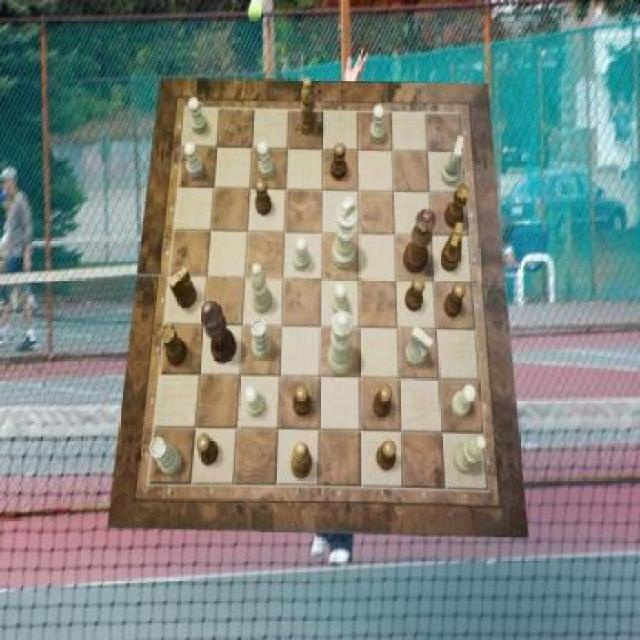bishop: (299, 77, 316, 135), (291, 442, 313, 479)
black-bishop: (202, 300, 238, 364)
black-king: (168, 266, 197, 309), (440, 223, 463, 272)
black-knight: (445, 282, 467, 318), (197, 434, 219, 466), (330, 143, 348, 181), (374, 384, 394, 418), (406, 277, 426, 311), (292, 385, 312, 417), (377, 440, 397, 471), (256, 179, 272, 216)
black-pawn: (403, 209, 436, 275)
black-queen: (160, 323, 188, 365), (446, 183, 471, 229)
black-rook: (452, 435, 486, 474), (251, 263, 273, 314)
white-bishop: (332, 195, 360, 270)
white-king: (442, 136, 466, 187), (406, 328, 434, 368)
white-knight: (452, 384, 477, 418), (244, 386, 266, 419), (188, 97, 207, 135), (184, 142, 204, 178), (257, 142, 275, 180), (370, 106, 386, 145), (332, 283, 350, 317), (294, 235, 311, 270)
white-pawn: (328, 310, 354, 374)
white-queen: (150, 437, 182, 475), (251, 318, 273, 360)
